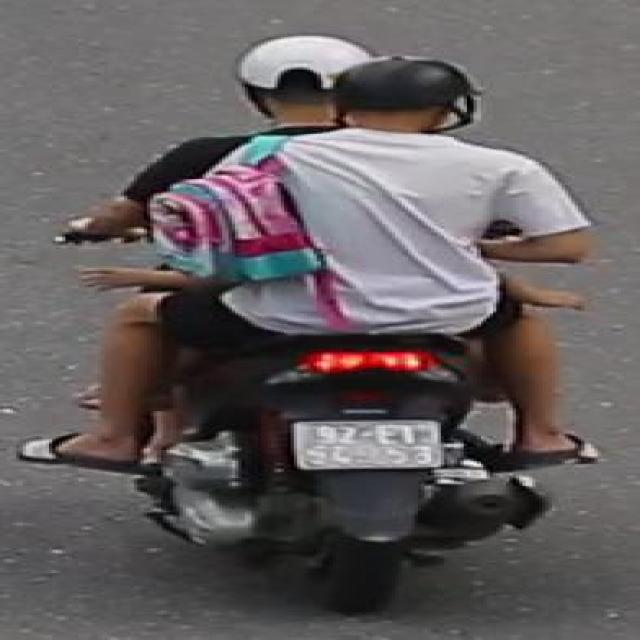LP: (287, 413, 444, 471)
helmet: (227, 31, 384, 136), (332, 53, 482, 142)
